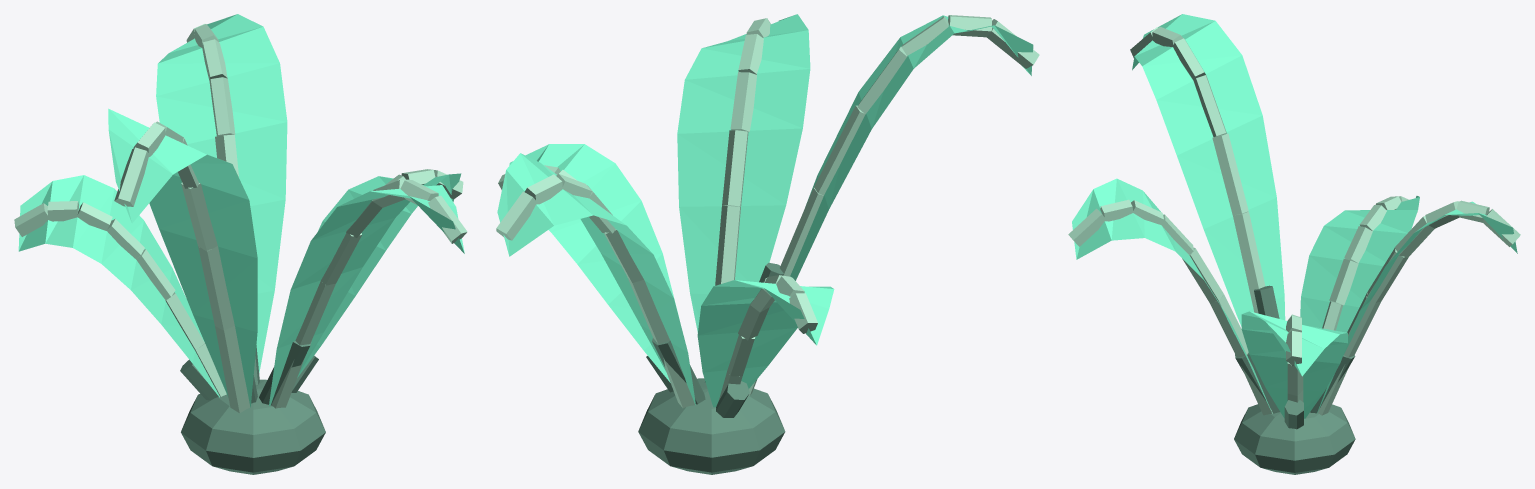
The model's file is glowfern-seedling.glb.
3 views of the same model, side by side, from view 1: azimuth 30°, elevation 25°; view 2: azimuth 150°, elevation 25°; view 3: azimuth 270°, elevation 25° (orthographic). The views are drawn at different scales.
Parts seen in each view (by area): view 1: glowfern.sway-pivot; view 2: glowfern.sway-pivot; view 3: glowfern.sway-pivot.
Part boxes in pixels (bbox=[...]): glowfern.sway-pivot: bbox=[14, 14, 467, 474]; glowfern.sway-pivot: bbox=[496, 14, 1039, 474]; glowfern.sway-pivot: bbox=[1068, 14, 1520, 474].
Size of the model in its own units: 0.2851 by 0.2722 by 0.3044.
